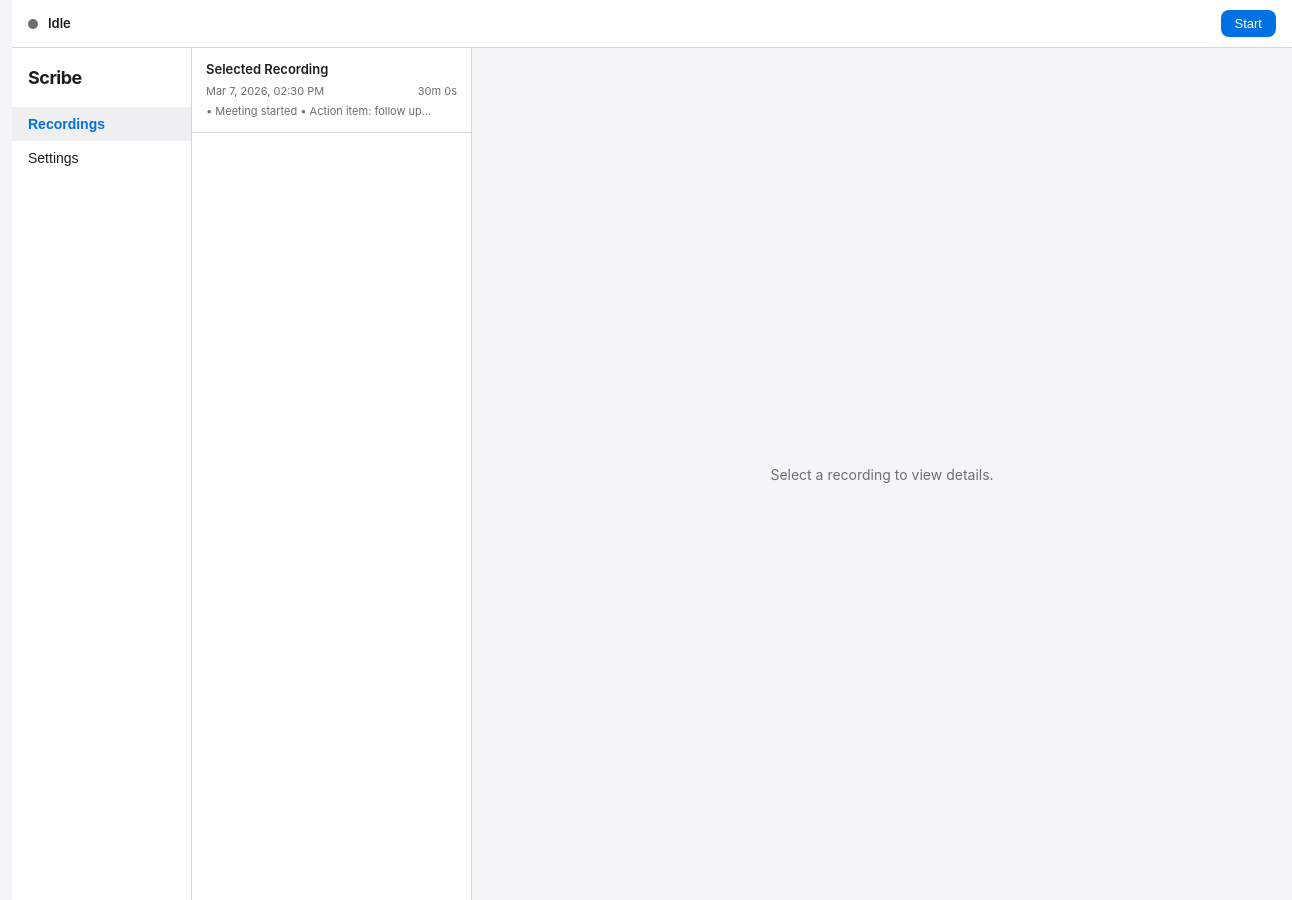
App – recording selection › shows recording detail when a recording is clicked
Click the text "Selected Recording": (267, 69) [206,61,328,77]
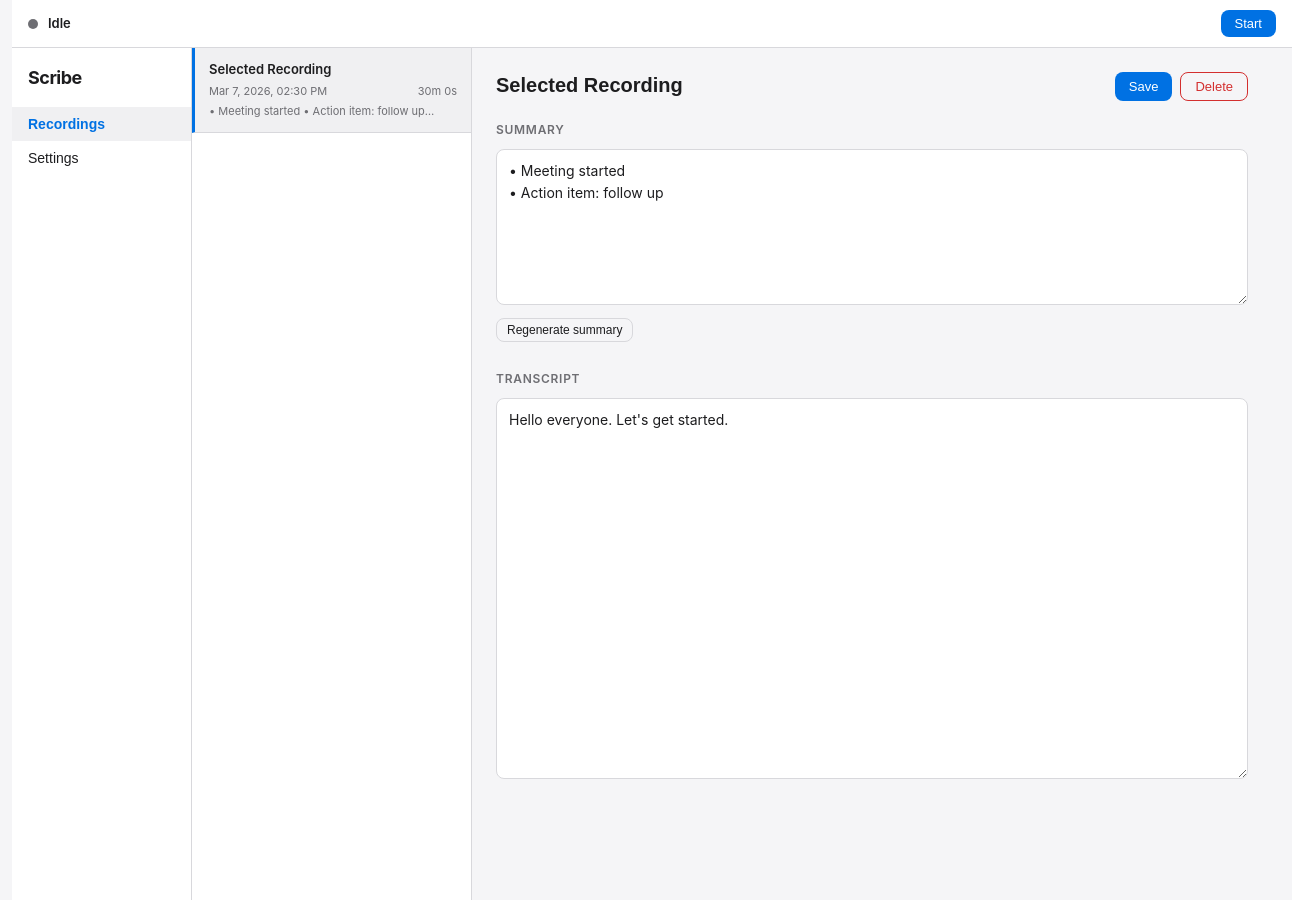
Check: the field showing "Selected Recording" is shown, box [496,72,1103,101]
